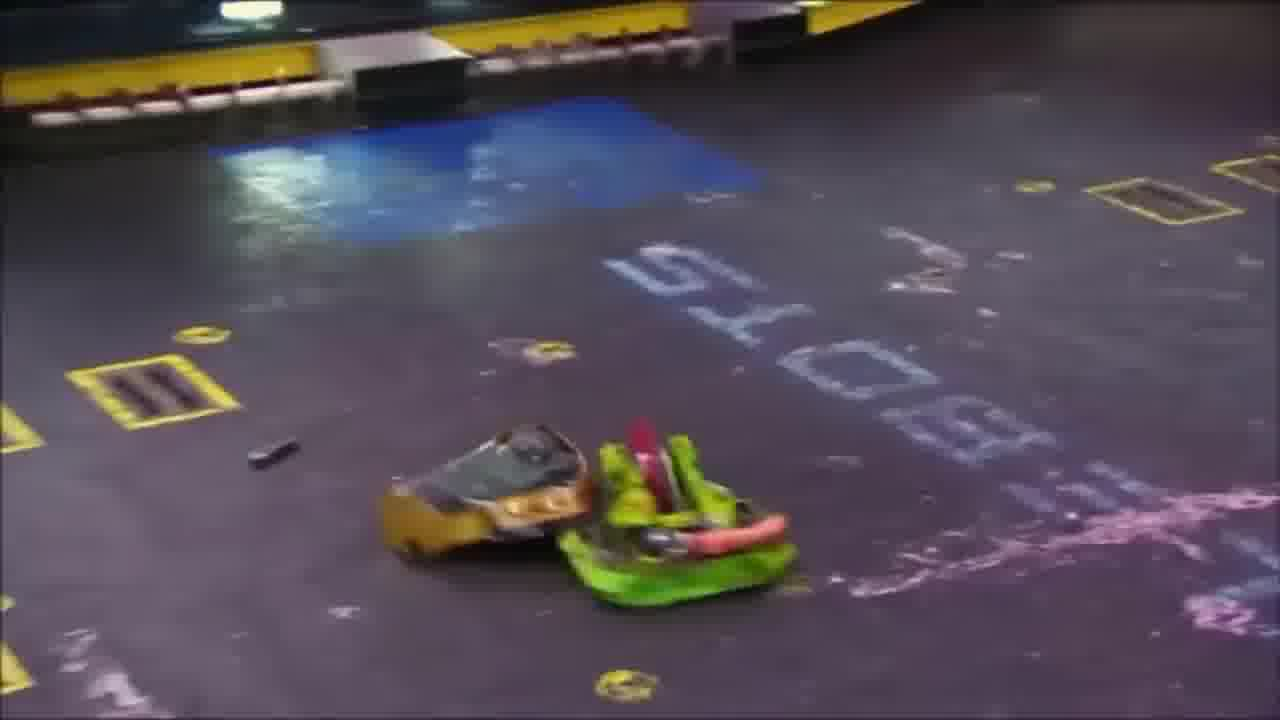combatbot: (566, 426, 799, 608), (380, 424, 601, 576)
debris: (249, 437, 298, 471)
